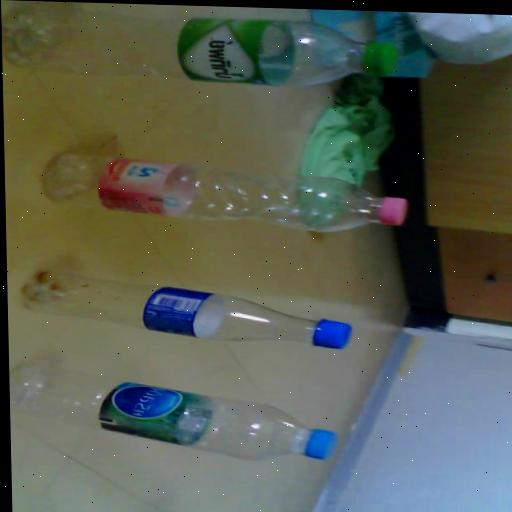bottle: (1, 8, 398, 92), (9, 365, 339, 466), (35, 153, 411, 235), (22, 271, 354, 349)
